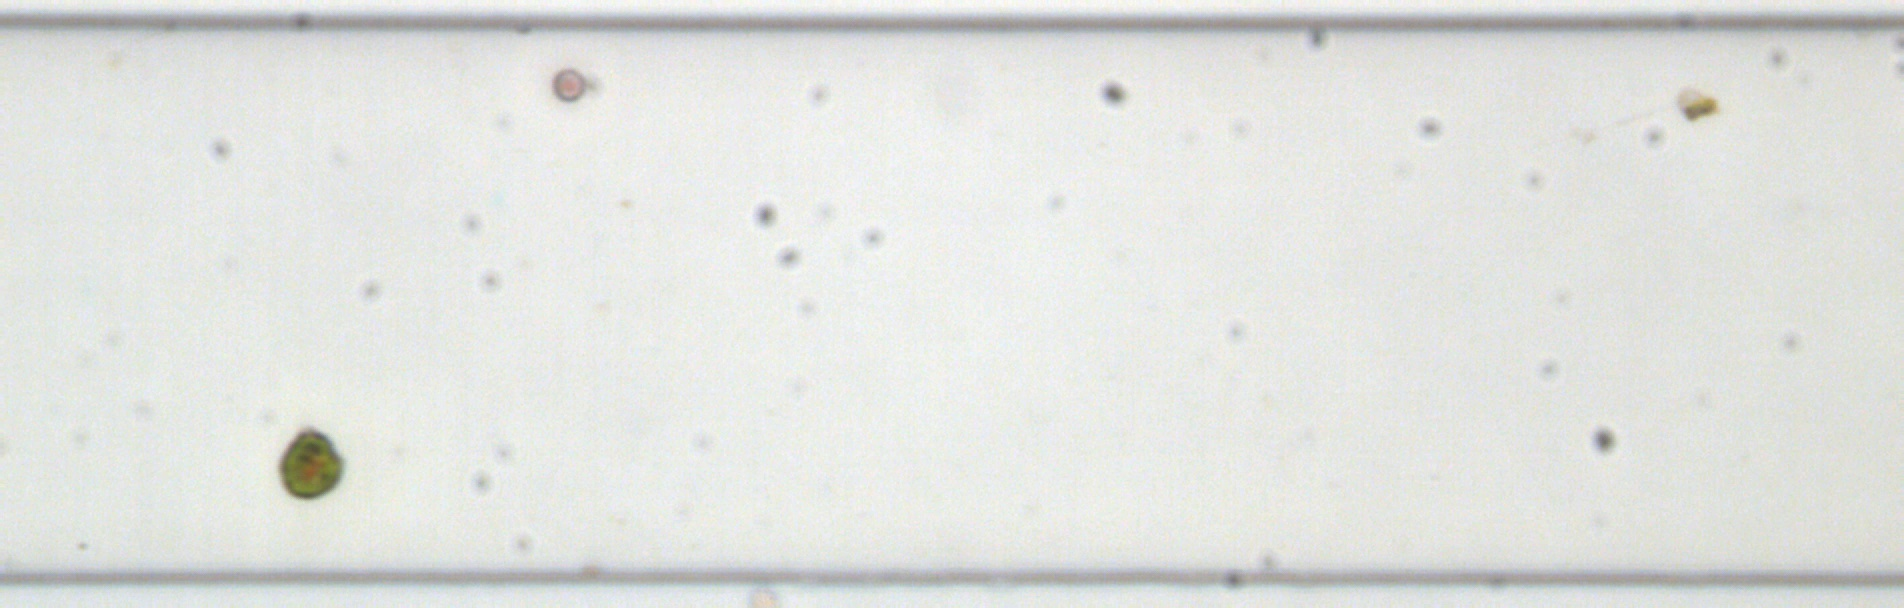Haematococcus: (273, 425, 348, 501)
Porphyridium: (549, 64, 586, 104)
